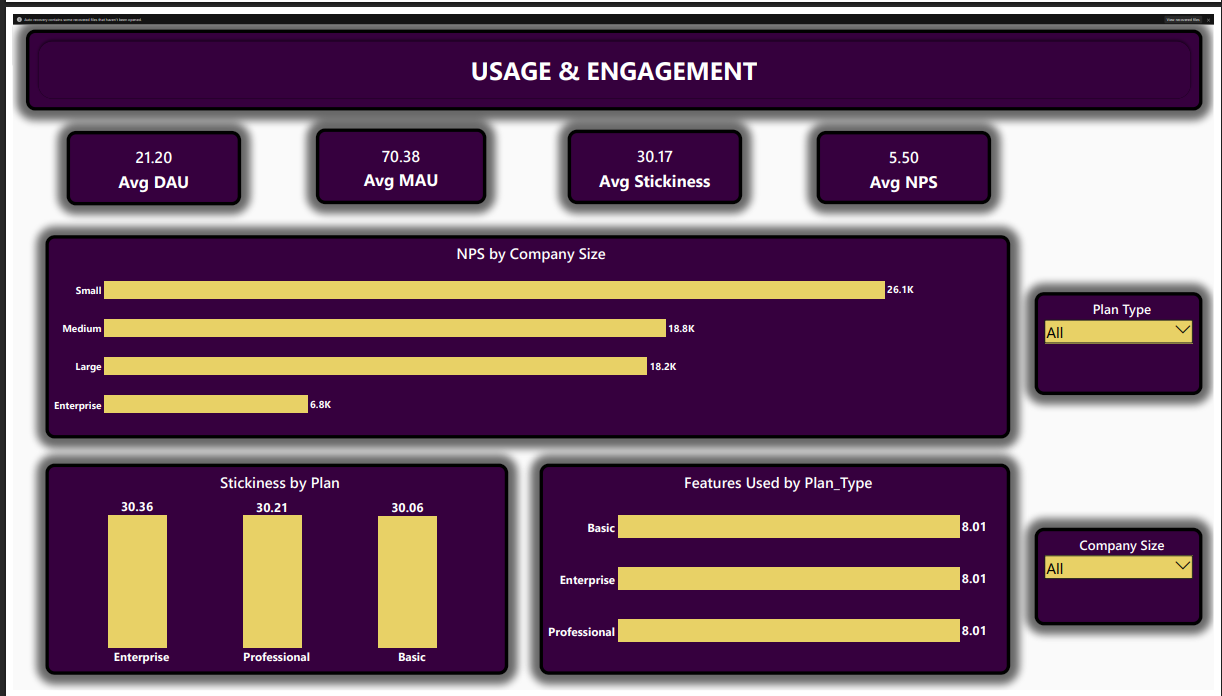

The dashboard page shown, as its layout file describes it:
{"tool":"powerbi","page":{"name":" USAGE & ENGAGEMENT","canvas":[3840,2160],"ordinal":3},"visuals":[{"type":"shape","box":[43.3,47.6,3761.3,259.7],"z":0},{"type":"card","title":"Total Revenue","fields":{"Values":["crm_usage_clean.Avg Stickiness"]},"box":[1774.6,367.9,558.3,238.1],"z":1000},{"type":"card","title":"Total Revenue","fields":{"Values":["crm_usage_clean.Avg DAU"]},"box":[173.1,372.2,558.3,238.1],"z":2000},{"type":"card","title":"Total Revenue","fields":{"Values":["crm_usage_clean.Avg MAU"]},"box":[969.5,363.6,545.4,242.4],"z":4000},{"type":"clusteredBarChart","title":"Features Used by Plan_Type","fields":{"Category":["crm_subscriptions_clean.plan_type"],"Y":["crm_usage_clean.Avg Features Used"]},"box":[1685,1435,1505,675],"z":5000},{"type":"columnChart","title":"Stickiness by Plan","fields":{"Category":["crm_customers_clean.plan_type"],"Series":["crm_subscriptions_clean.status"],"Y":["crm_usage_clean.Avg Stickiness"]},"box":[105,1435,1480,675],"z":6000},{"type":"slicer","title":"Plan Type","fields":{"Values":["crm_subscriptions_clean.plan_type"]},"box":[3267.9,887.3,536.7,328.9],"z":7000},{"type":"slicer","title":"Company Size","fields":{"Values":["crm_customers_clean.company_size"]},"box":[3267.9,1640.4,536.7,311.6],"z":8000},{"type":"card","title":"Total Revenue","fields":{"Values":["crm_usage_clean.Avg NPS"]},"box":[2571,372.2,558.3,233.7],"z":9000},{"type":"clusteredBarChart","title":"NPS by Company Size","fields":{"Category":["crm_customers_clean.company_size"],"Y":["Sum(crm_usage_clean.nps_score)"]},"box":[105,705,3085,650],"z":10000}]}

Visuals, with their boxes on the page's 3840x2160 design canvas (x1, y1, x2, y2). These are canvas units, not pixel positions in the 1222x696 screenshot, which may show the page scaled, cropped or inside an application window:
shape: BBox(43, 48, 3805, 307)
"Total Revenue" card: BBox(1775, 368, 2333, 606)
"Total Revenue" card: BBox(173, 372, 731, 610)
"Total Revenue" card: BBox(970, 364, 1515, 606)
"Features Used by Plan_Type" clusteredBarChart: BBox(1685, 1435, 3190, 2110)
"Stickiness by Plan" columnChart: BBox(105, 1435, 1585, 2110)
"Plan Type" slicer: BBox(3268, 887, 3805, 1216)
"Company Size" slicer: BBox(3268, 1640, 3805, 1952)
"Total Revenue" card: BBox(2571, 372, 3129, 606)
"NPS by Company Size" clusteredBarChart: BBox(105, 705, 3190, 1355)
